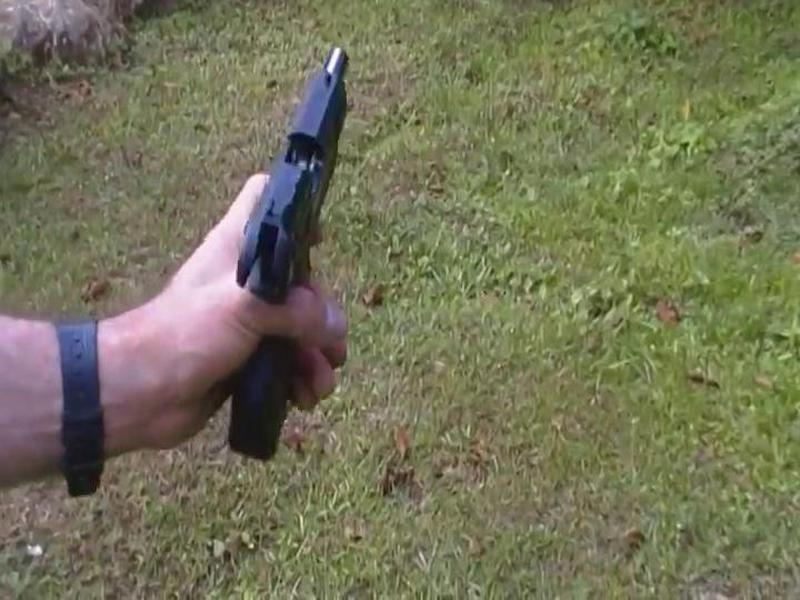Pistola: (190, 66, 410, 467)
